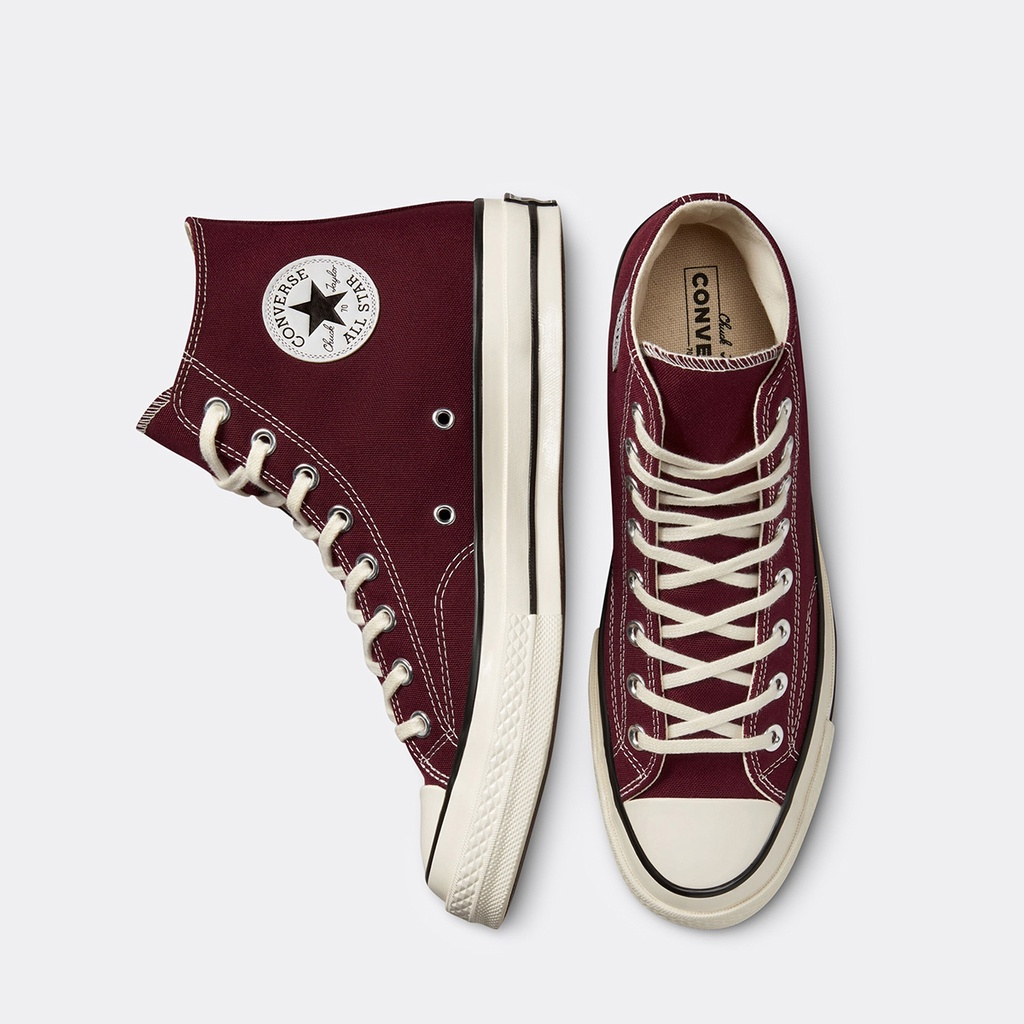sneakers: (132, 194, 569, 927), (588, 194, 841, 933)
